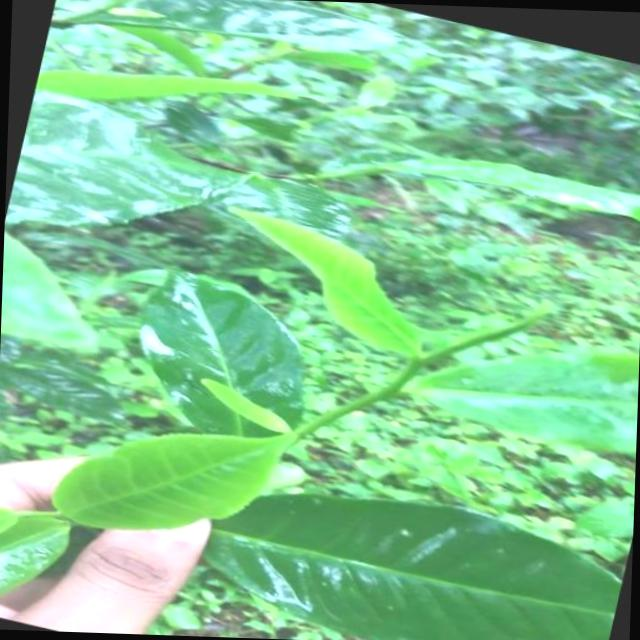Stem: (399, 359, 422, 378)
